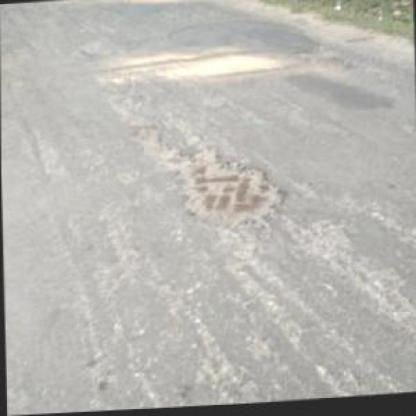pothole: (169, 141, 296, 238), (293, 47, 355, 78), (131, 123, 162, 154)
